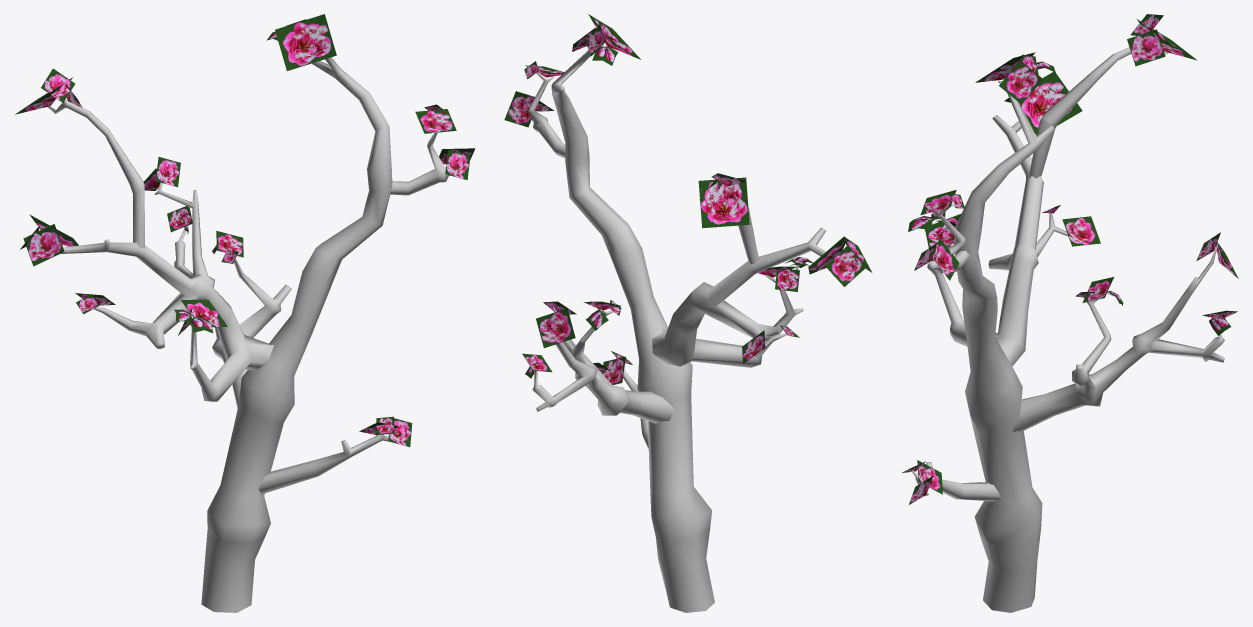
Rendered from Stage_BingYuan_Shu07.FBX.
3 views of the same model, side by side, from view 1: azimuth 30°, elevation 25°; view 2: azimuth 150°, elevation 25°; view 3: azimuth 270°, elevation 25° (orthographic). The views are drawn at different scales.
Parts seen in each view (by area): view 1: Stage_BingYuan_Shu07; view 2: Stage_BingYuan_Shu07; view 3: Stage_BingYuan_Shu07.
Part boxes in pixels (x1,y1,x2,y2): Stage_BingYuan_Shu07: (15,14,475,612); Stage_BingYuan_Shu07: (504,14,872,612); Stage_BingYuan_Shu07: (902,14,1238,612).
Size of the model in its own units: 471 by 627 by 322.
